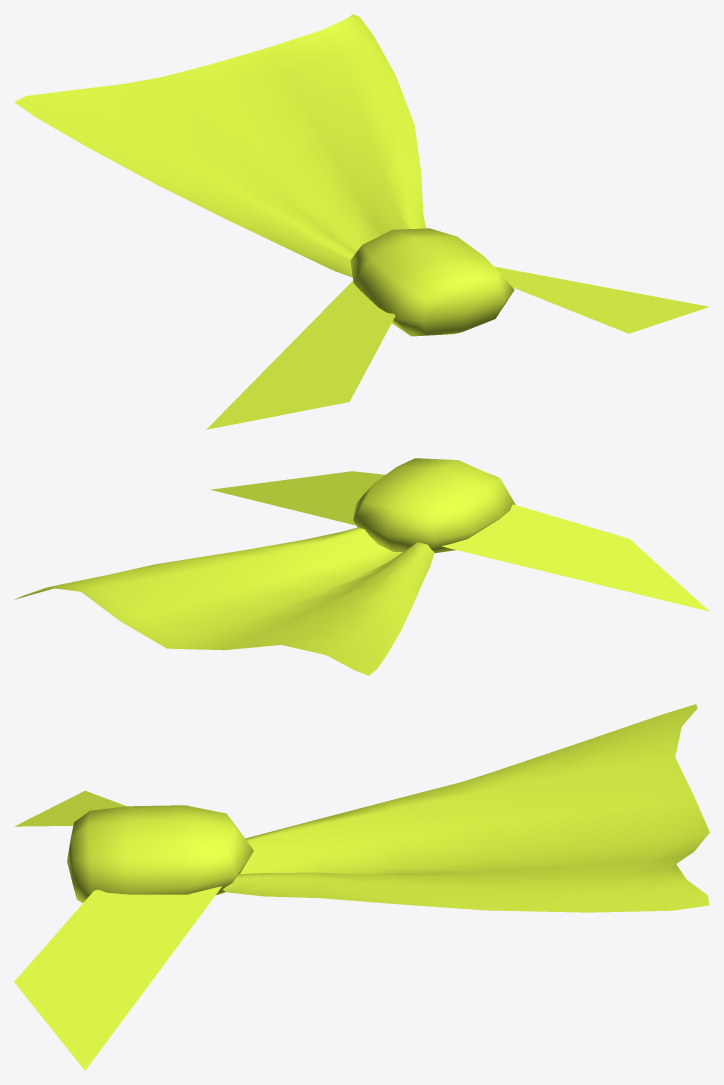
File: reimu_tie.glb
3 views of the same model, one above another, from view 1: azimuth 30°, elevation 25°; view 2: azimuth 150°, elevation 25°; view 3: azimuth 270°, elevation 25° (orthographic). The views are drawn at different scales.
Parts seen in each view (by area): view 1: reimu_tie; view 2: reimu_tie; view 3: reimu_tie.
Boxes of the visible parts, x1,y1,x2,y2 form: reimu_tie: (14,14,709,429); reimu_tie: (15,458,709,675); reimu_tie: (14,704,709,1070).
Size of the model in its own units: 0.3859 by 0.0872 by 0.4049.
